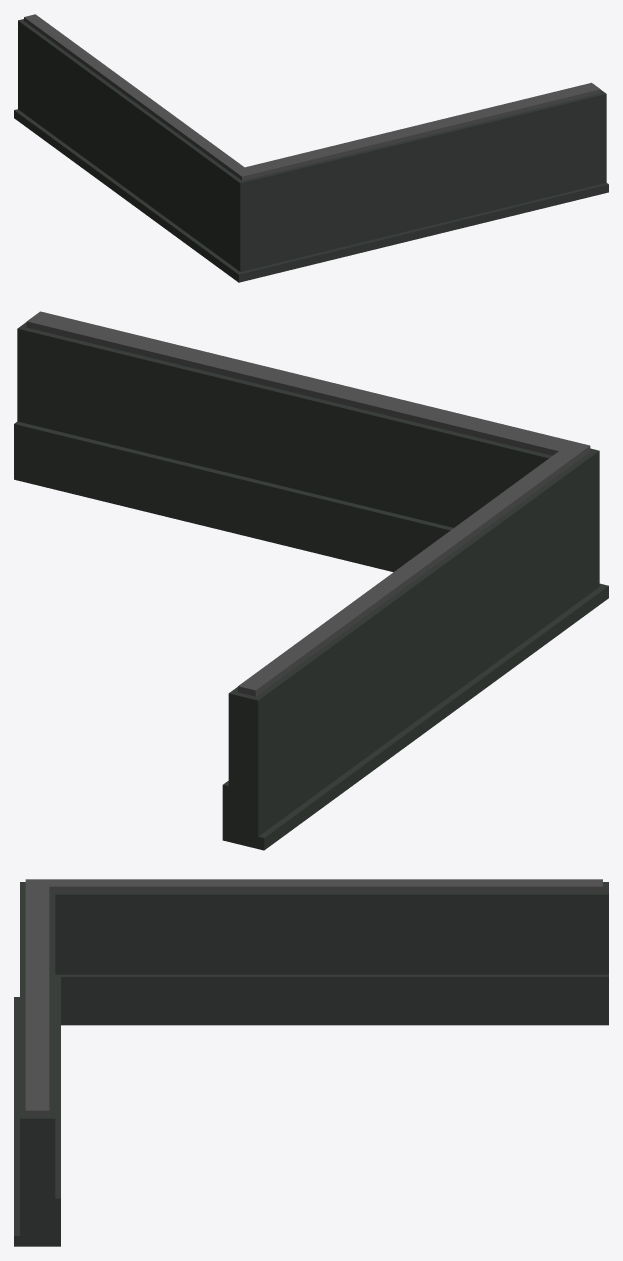
File: HallEnd_0.obj
The picture shows the model from 3 angles, top to bottom: view 1: azimuth 30°, elevation 25°; view 2: azimuth 150°, elevation 25°; view 3: azimuth 270°, elevation 25°; orthographic projection. The views are drawn at different scales.
Size of the model in its own units: 96 by 25 by 101.
